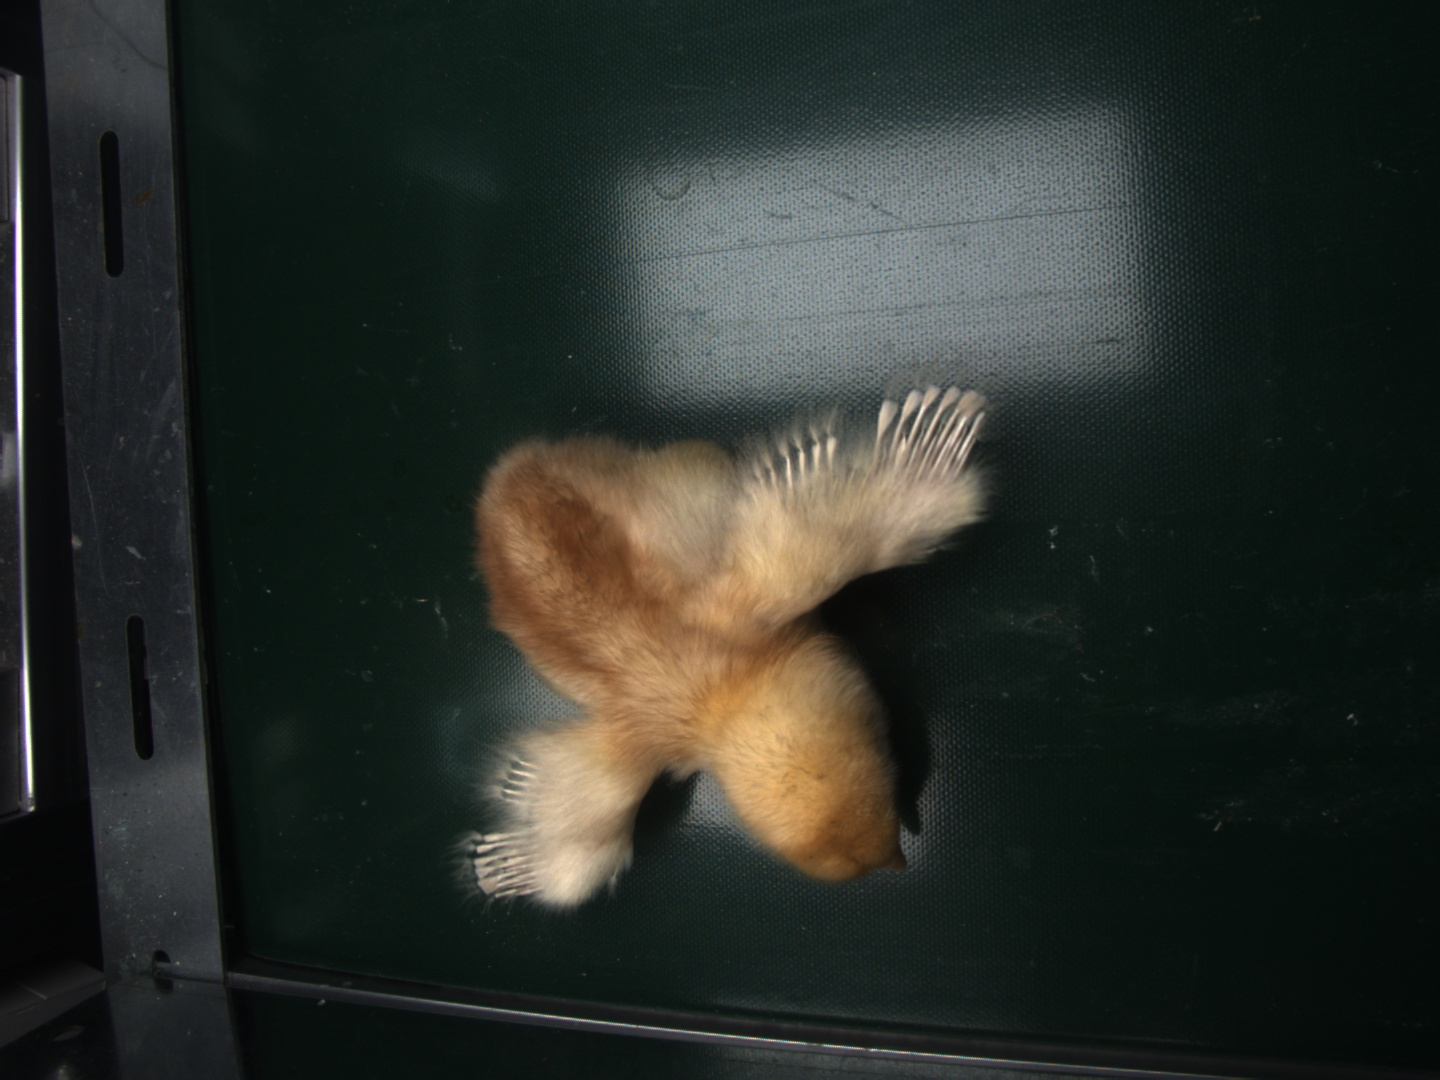female: (880, 383, 986, 470)
